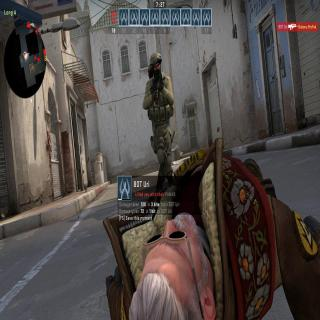CT-Body: (144, 50, 178, 176)
CT-Head: (148, 52, 162, 74)
